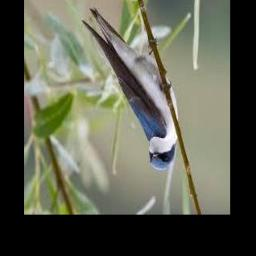Swallow: (82, 8, 179, 171)
